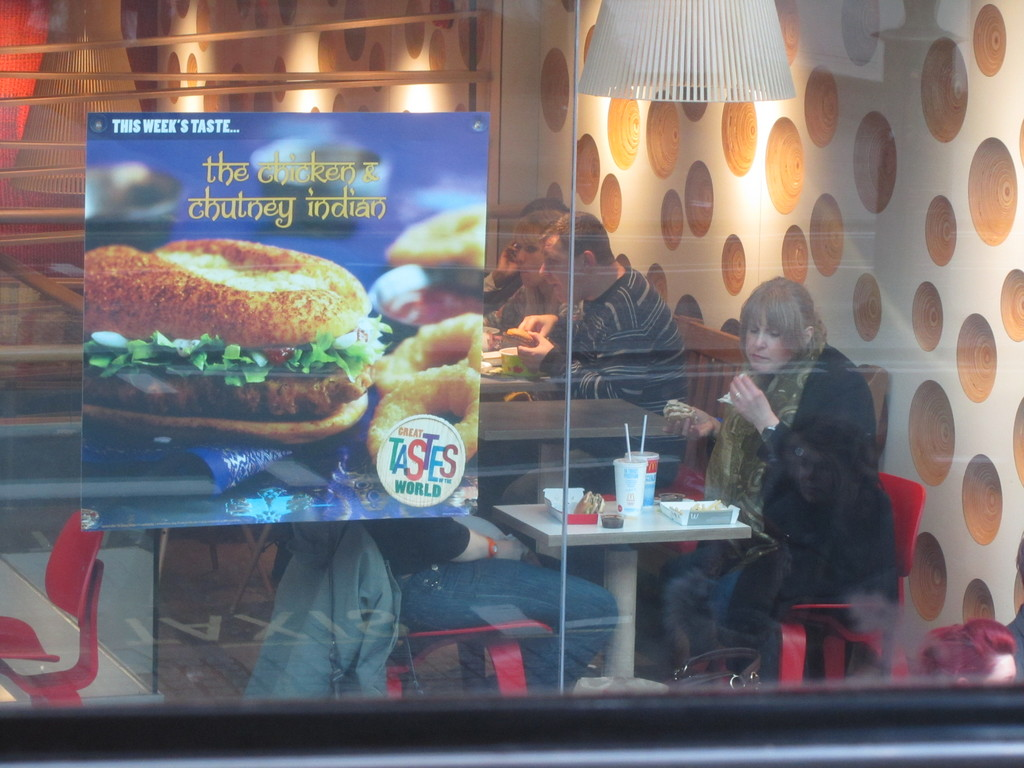Hamburger: (83, 235, 397, 441)
